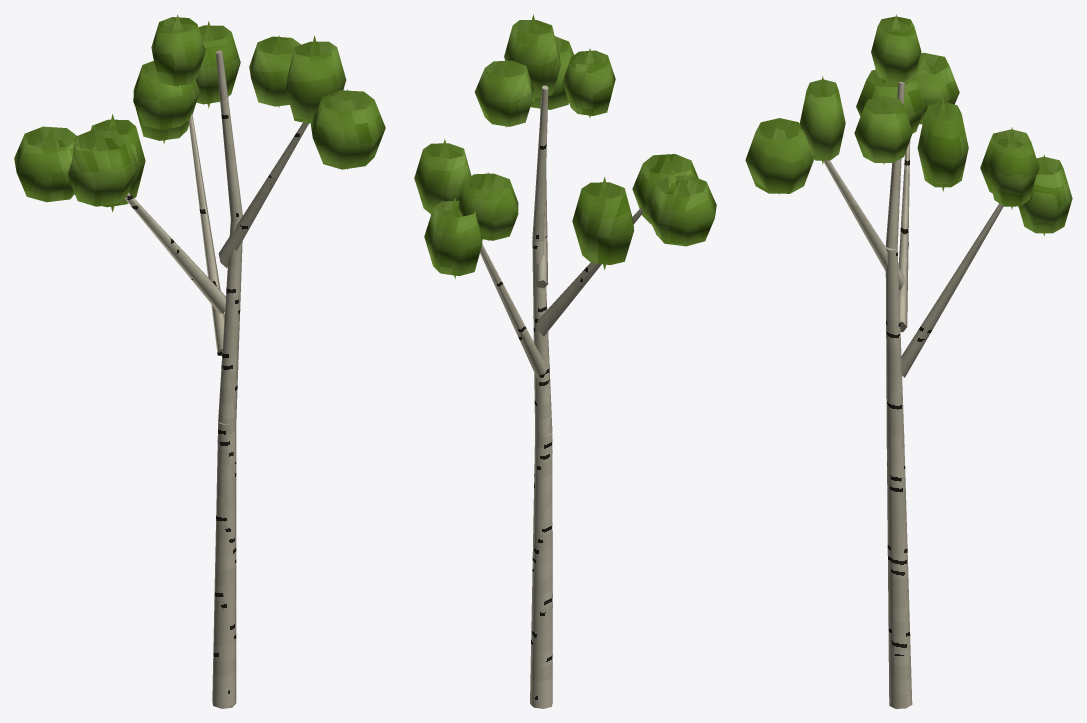
Rendered from birch03-lod1.glb.
3 renders of one model, left to right at view 1: azimuth 30°, elevation 25°; view 2: azimuth 150°, elevation 25°; view 3: azimuth 270°, elevation 25°, orthographic. The views are drawn at different scales.
Visible parts, largest first — view 1: TZ_birch_Batch_01_LOD1, TZ_birch_Batch_00_LOD1; view 2: TZ_birch_Batch_01_LOD1, TZ_birch_Batch_00_LOD1; view 3: TZ_birch_Batch_01_LOD1, TZ_birch_Batch_00_LOD1.
Part boxes in pixels (box(x1,y1,x2,y2)): TZ_birch_Batch_01_LOD1: box(14, 14, 385, 212); TZ_birch_Batch_00_LOD1: box(124, 50, 308, 708); TZ_birch_Batch_01_LOD1: box(414, 14, 716, 278); TZ_birch_Batch_00_LOD1: box(480, 85, 642, 708); TZ_birch_Batch_01_LOD1: box(745, 14, 1072, 235); TZ_birch_Batch_00_LOD1: box(823, 81, 1003, 708).
Size of the model in its own units: 3.07 by 7.2 by 3.19.
Materials: 2 (2 with a texture image).
